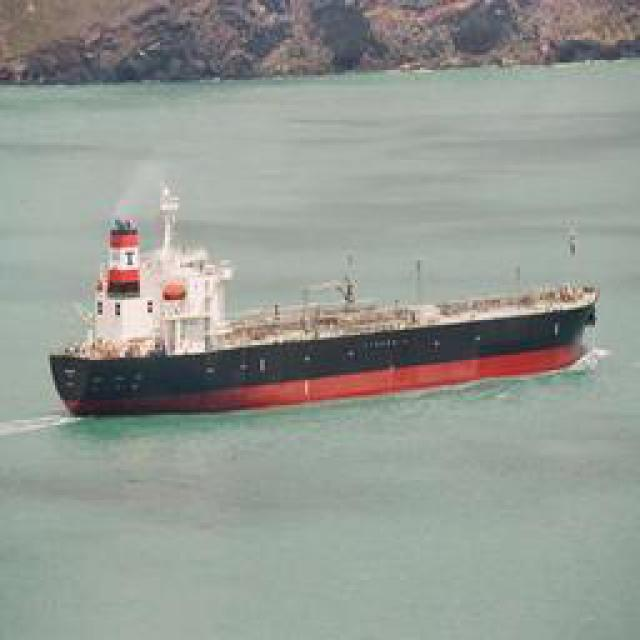Ship: (46, 186, 606, 419)
